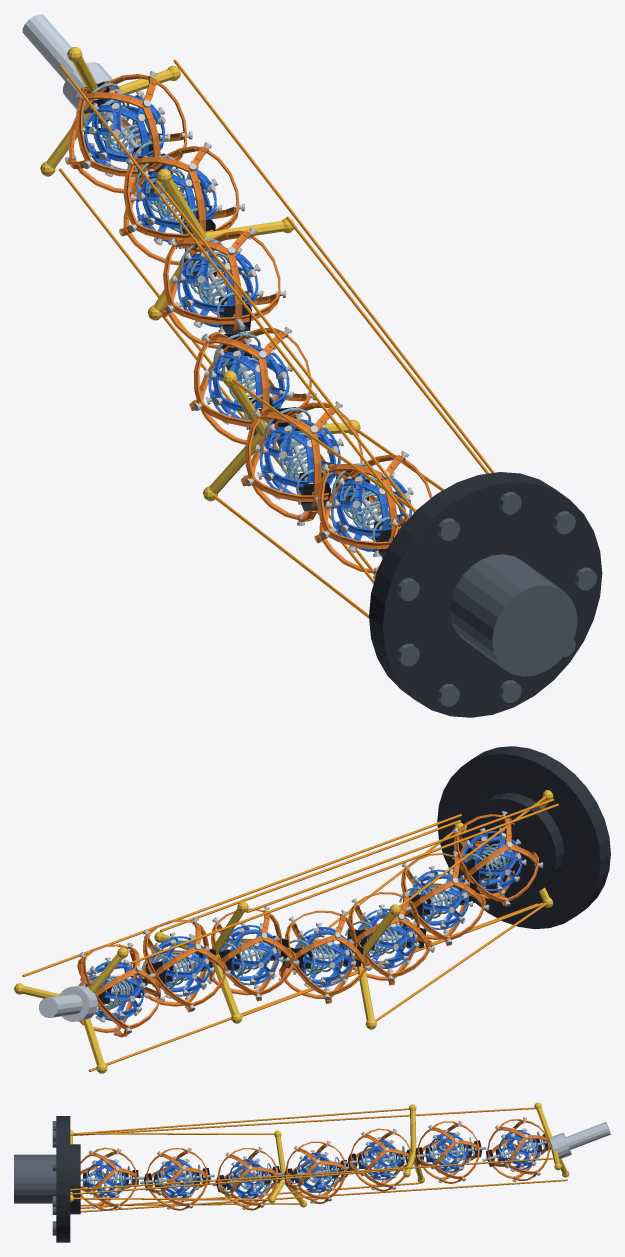
File: trunc_arm_bent_posture.obj
3 renders of one model, top to bottom at view 1: azimuth 30°, elevation 25°; view 2: azimuth 150°, elevation 25°; view 3: azimuth 270°, elevation 25°, orthographic. The views are drawn at different scales.
Parts seen in each view (by area): view 1: base_mount, links_equatorial, winches, links_truss, tendons, pin_screws, spring, triad, collars, tool, shaft; view 2: base_mount, links_equatorial, links_truss, tendons, pin_screws, spring, triad, collars, tool, shaft; view 3: links_equatorial, tendons, links_truss, base_mount, winches, pin_screws, spring, triad, collars, tool, shaft.
Boxes of the visible parts, x1,y1,x2,y2 form: base_mount: [369, 472, 602, 717]; links_equatorial: [68, 74, 432, 573]; winches: [397, 491, 597, 706]; links_truss: [84, 94, 411, 551]; tendons: [59, 59, 494, 618]; pin_screws: [64, 71, 413, 579]; spring: [82, 82, 398, 542]; triad: [40, 47, 360, 501]; collars: [84, 82, 398, 558]; tool: [22, 14, 116, 109]; shaft: [92, 99, 389, 541]; base_mount: [437, 746, 610, 929]; links_equatorial: [77, 814, 538, 1037]; links_truss: [85, 831, 522, 1020]; tendons: [22, 796, 558, 1071]; pin_screws: [79, 811, 543, 1035]; spring: [81, 842, 519, 1011]; triad: [14, 790, 553, 1073]; collars: [85, 844, 513, 1006]; tool: [39, 986, 97, 1021]; shaft: [111, 850, 511, 993]; links_equatorial: [80, 1118, 549, 1210]; tendons: [70, 1107, 567, 1212]; links_truss: [85, 1130, 538, 1198]; base_mount: [56, 1116, 80, 1242]; winches: [14, 1121, 56, 1235]; pin_screws: [88, 1117, 540, 1209]; spring: [81, 1131, 545, 1190]; triad: [70, 1102, 569, 1207]; collars: [83, 1134, 550, 1192]; tool: [549, 1122, 610, 1159]; shaft: [80, 1141, 547, 1186].
Bounding box in the file's own units: 245 × 234 × 849.
